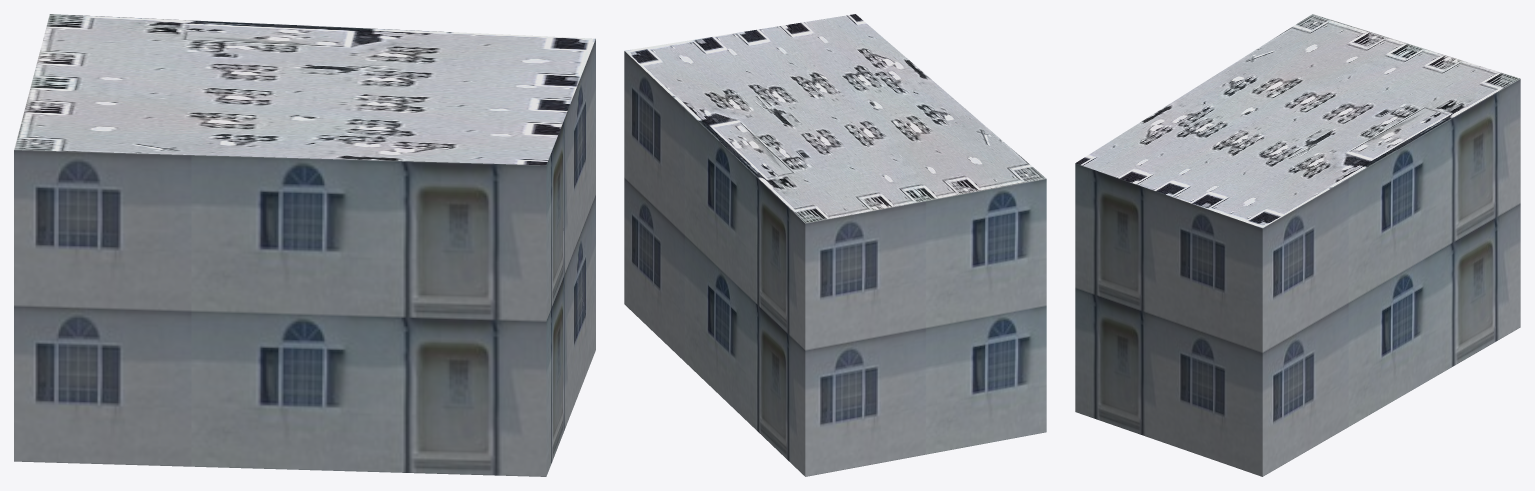
File: ResTex__4301.fbx
3 renders of one model, left to right at view 1: azimuth 30°, elevation 25°; view 2: azimuth 150°, elevation 25°; view 3: azimuth 270°, elevation 25°, orthographic. The views are drawn at different scales.
Parts seen in each view (by area): view 1: CityEngineMaterial_17_m, CityEngineMaterial_8_m; view 2: CityEngineMaterial_17_m, CityEngineMaterial_8_m; view 3: CityEngineMaterial_17_m, CityEngineMaterial_8_m.
Boxes of the visible parts, bbox=[...] form: CityEngineMaterial_17_m: bbox=[14, 39, 595, 476]; CityEngineMaterial_8_m: bbox=[14, 14, 595, 165]; CityEngineMaterial_17_m: bbox=[624, 51, 1046, 476]; CityEngineMaterial_8_m: bbox=[624, 14, 1046, 223]; CityEngineMaterial_17_m: bbox=[1075, 79, 1520, 476]; CityEngineMaterial_8_m: bbox=[1075, 14, 1520, 227].
Bounding box in the file's own units: 11.09 × 6 × 9.74.
Materials: 2 (2 with a texture image).
